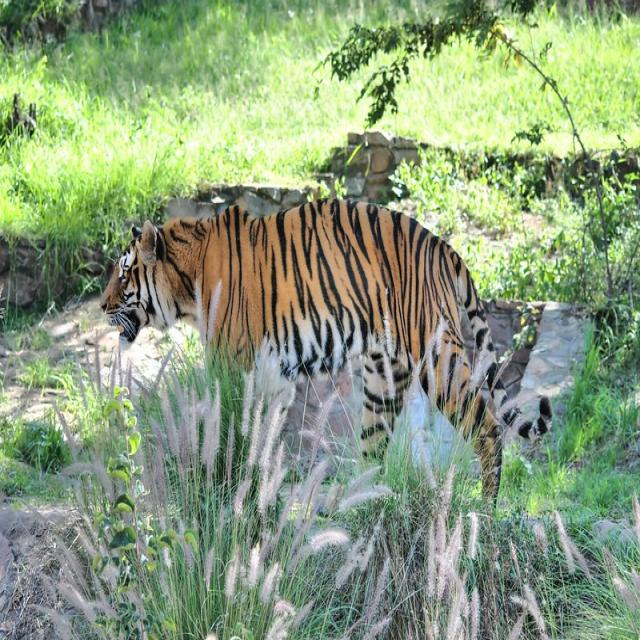Tiger: (95, 189, 552, 529)
